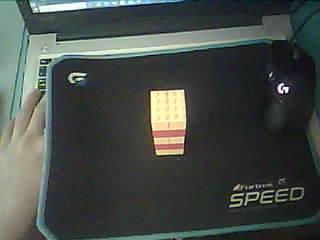lego: (149, 90, 187, 155)
